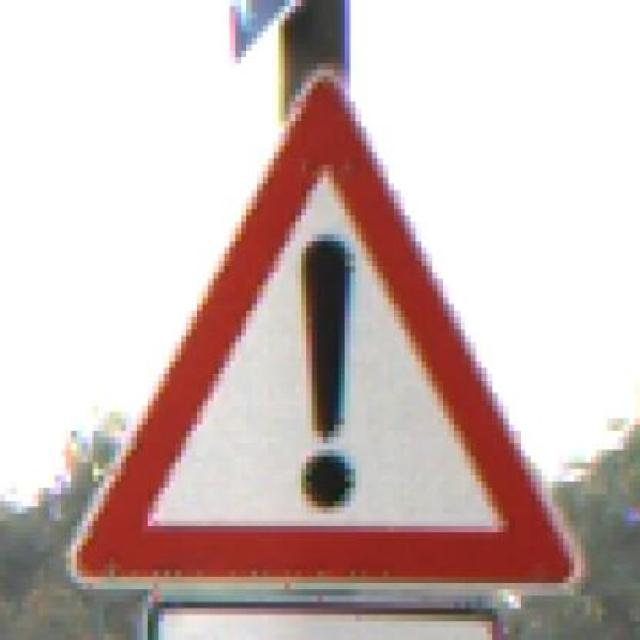Attention Please-: (44, 70, 602, 608)
